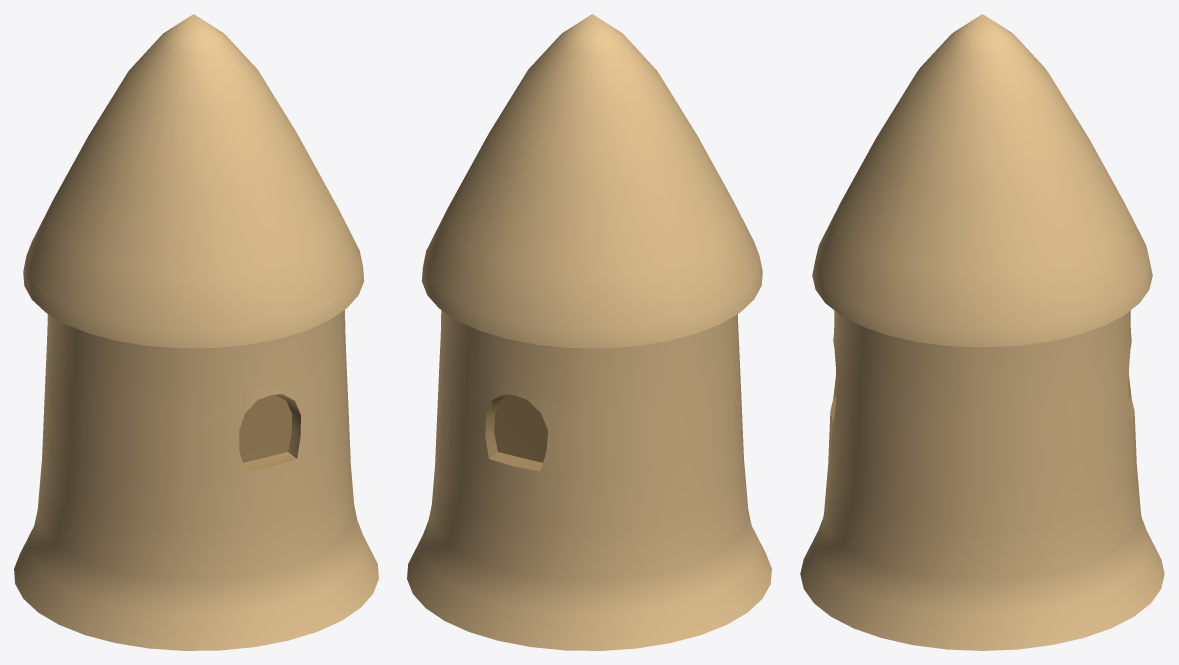
File: TowerSmall2.fbx
3 views of the same model, side by side, from view 1: azimuth 30°, elevation 25°; view 2: azimuth 150°, elevation 25°; view 3: azimuth 270°, elevation 25° (orthographic).
Visible parts, largest first — view 1: Cylinder.076; view 2: Cylinder.076; view 3: Cylinder.076.
Part boxes in pixels (x1,y1,x2,y2): Cylinder.076: (14,14,378,650); Cylinder.076: (407,14,771,650); Cylinder.076: (800,14,1164,650).
Size of the model in its own units: 379 by 641 by 379.
